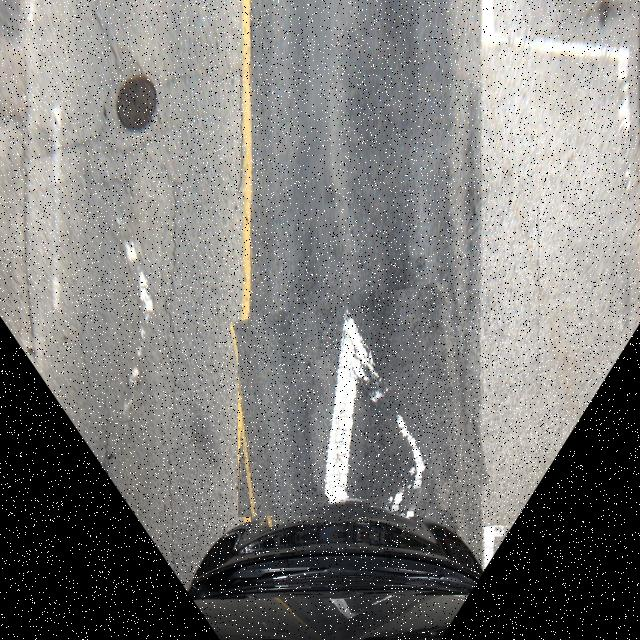diamond: (238, 290, 481, 518)
